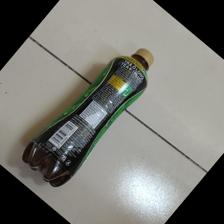Olong: (22, 47, 155, 189)
